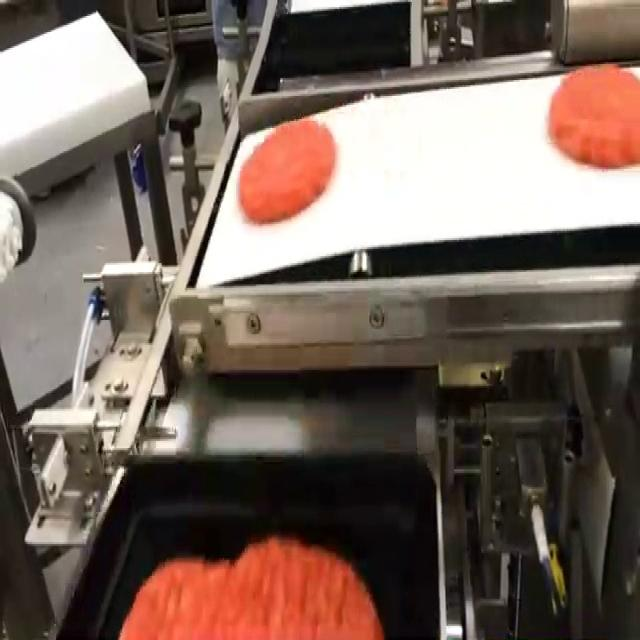4-hamburguer: (118, 535, 383, 638)
